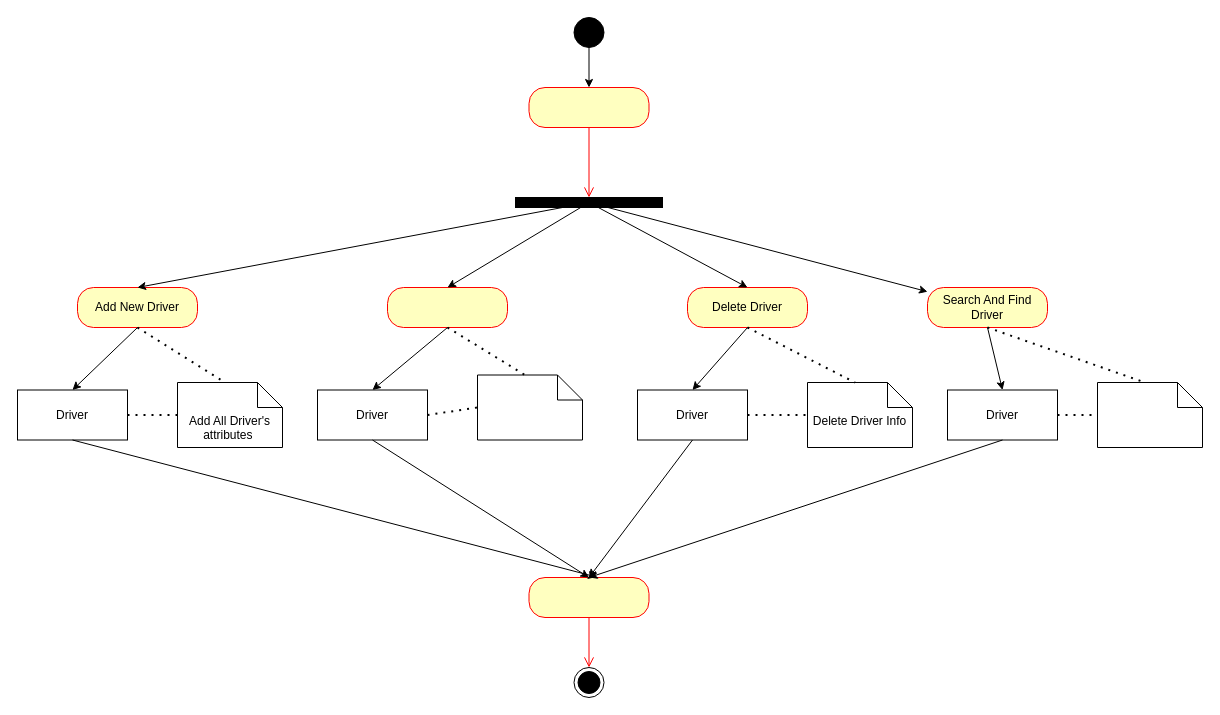
This 1220x715 diagram has some shape labels left out. Each missing label, with the box of its shape:
Find Driver to be modified or deleted: (1096, 382, 1202, 448)
Modify Driver: (386, 286, 508, 328)
Save Changes: (528, 576, 649, 618)
selected driver by id and able modification: (476, 374, 582, 440)
Staff/Admin Select: (528, 86, 649, 128)
